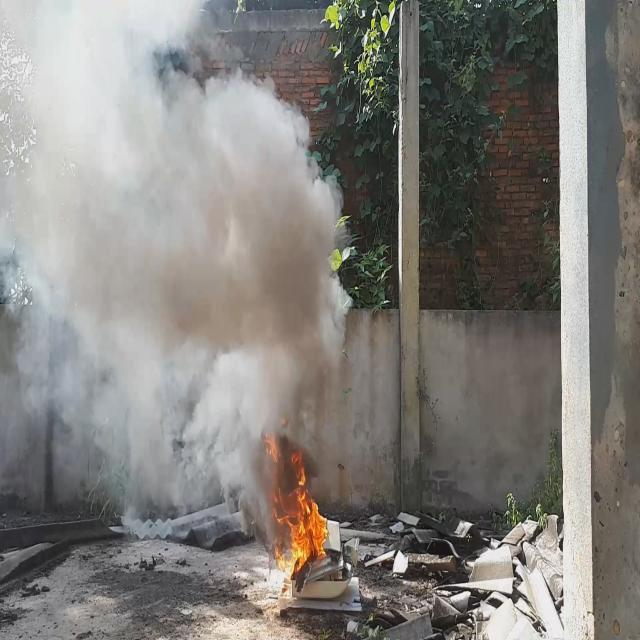Fire: (268, 424, 332, 584)
Smoke: (0, 0, 350, 514)
